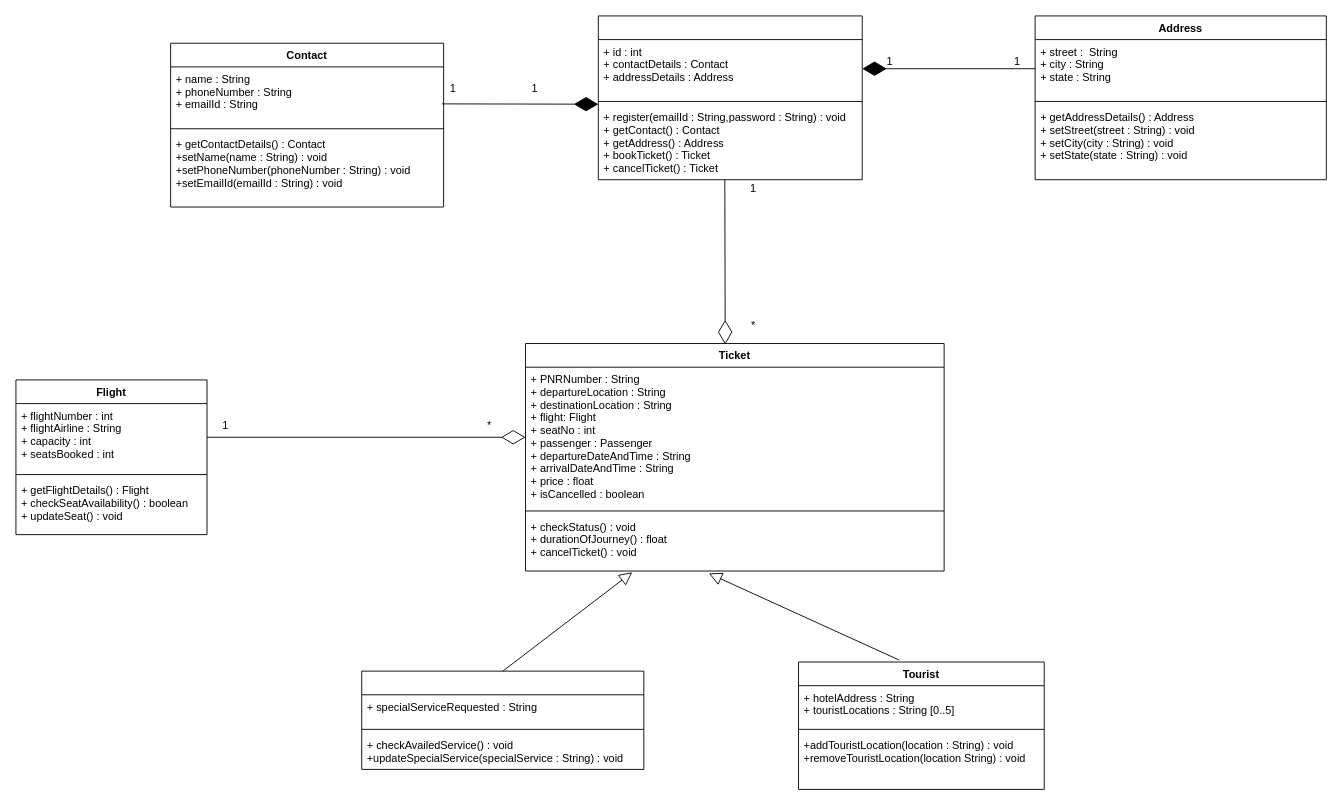
Some shapes in this 1342 by 808 pixel diagram are drawn without their labels. Here are the shapes that lost their labels. From the top down, the box of each, then its label:
(597, 15, 862, 180): Passenger
(361, 670, 644, 769): Regular
